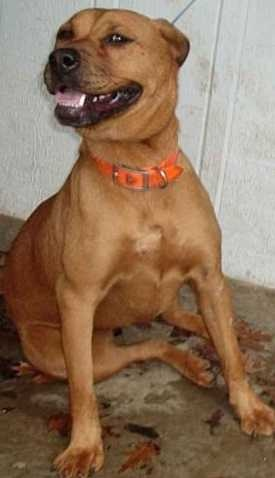Dog: (3, 8, 264, 477)
